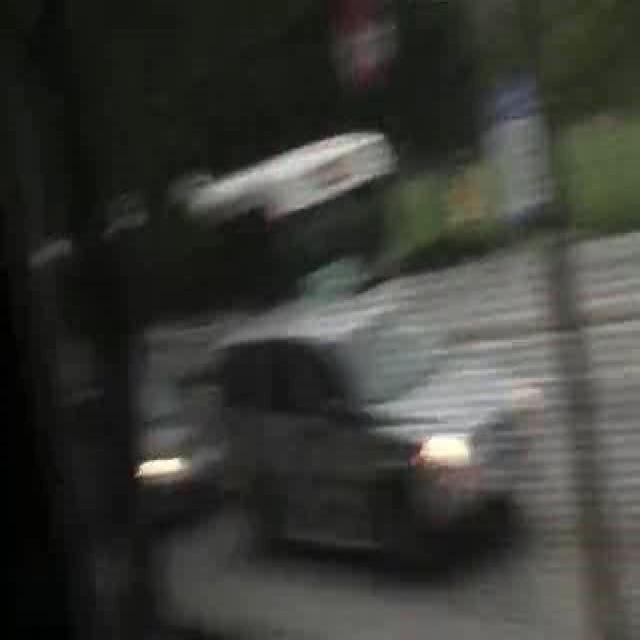other: (409, 412, 478, 494), (126, 450, 190, 480)
